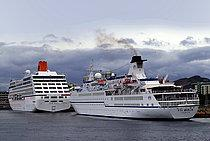Ship: (69, 52, 203, 123), (8, 59, 75, 119)
